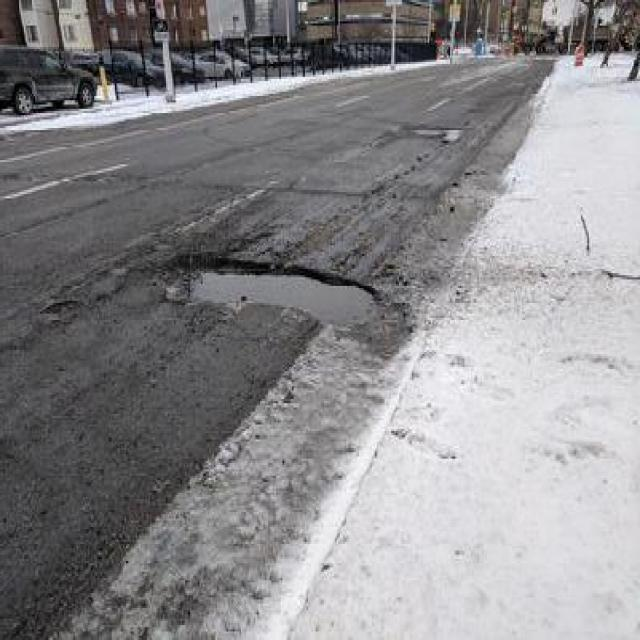pothole: (163, 254, 383, 322)
